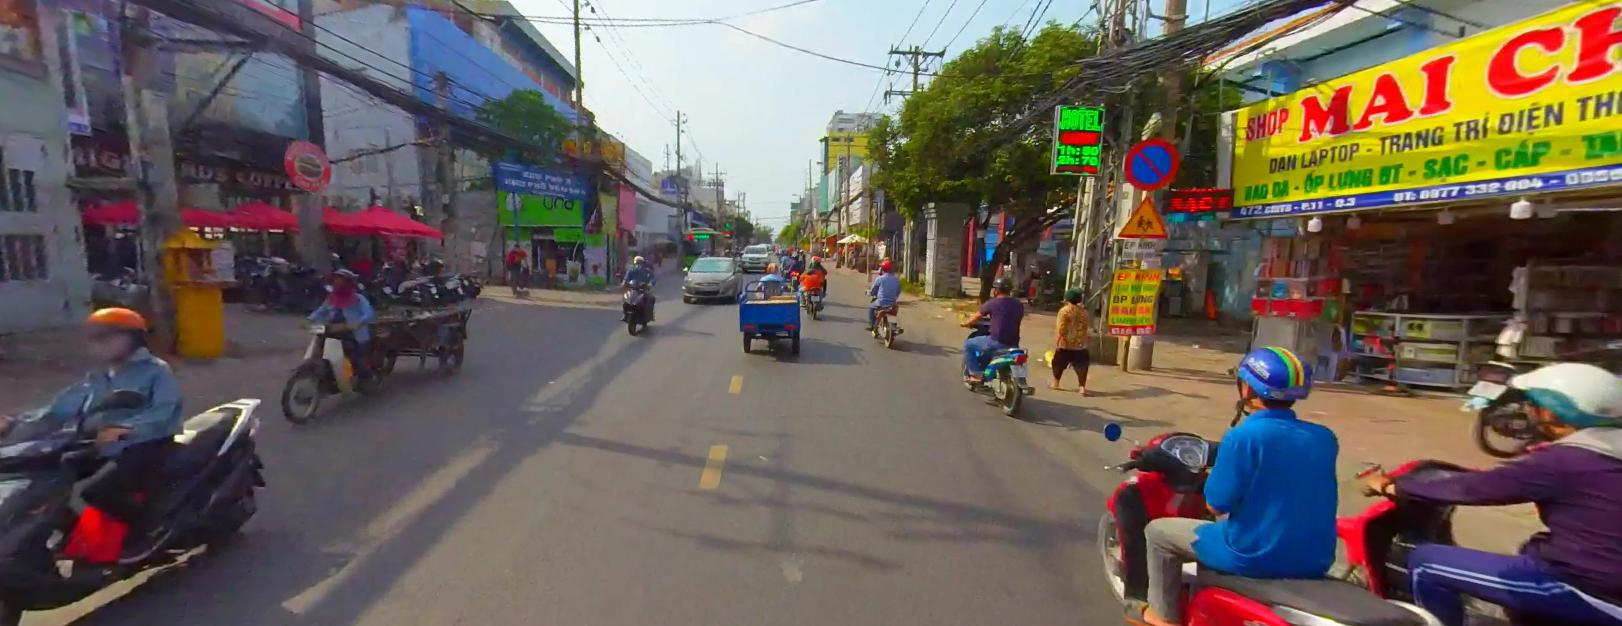Cam dung va do: (1122, 135, 1181, 187)
Nguy hiem: (1116, 193, 1170, 239)
